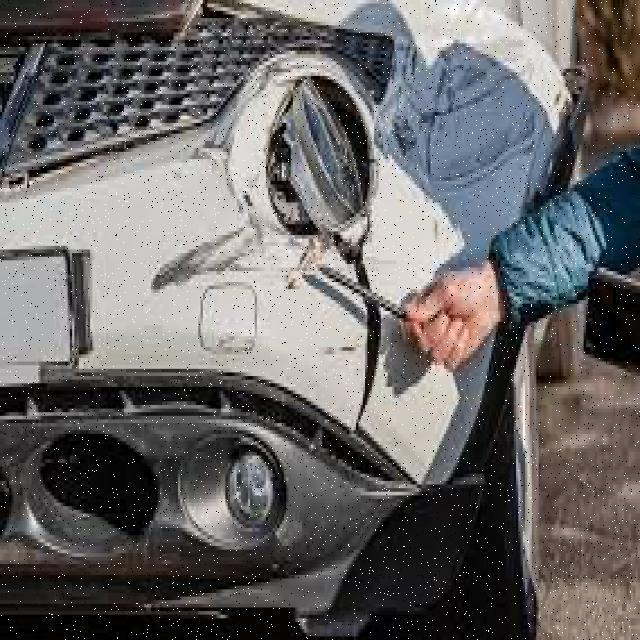front-bumper-dent: (0, 185, 502, 590)
